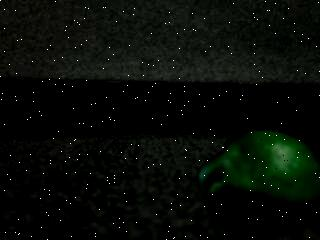Lime: (193, 125, 320, 240)
